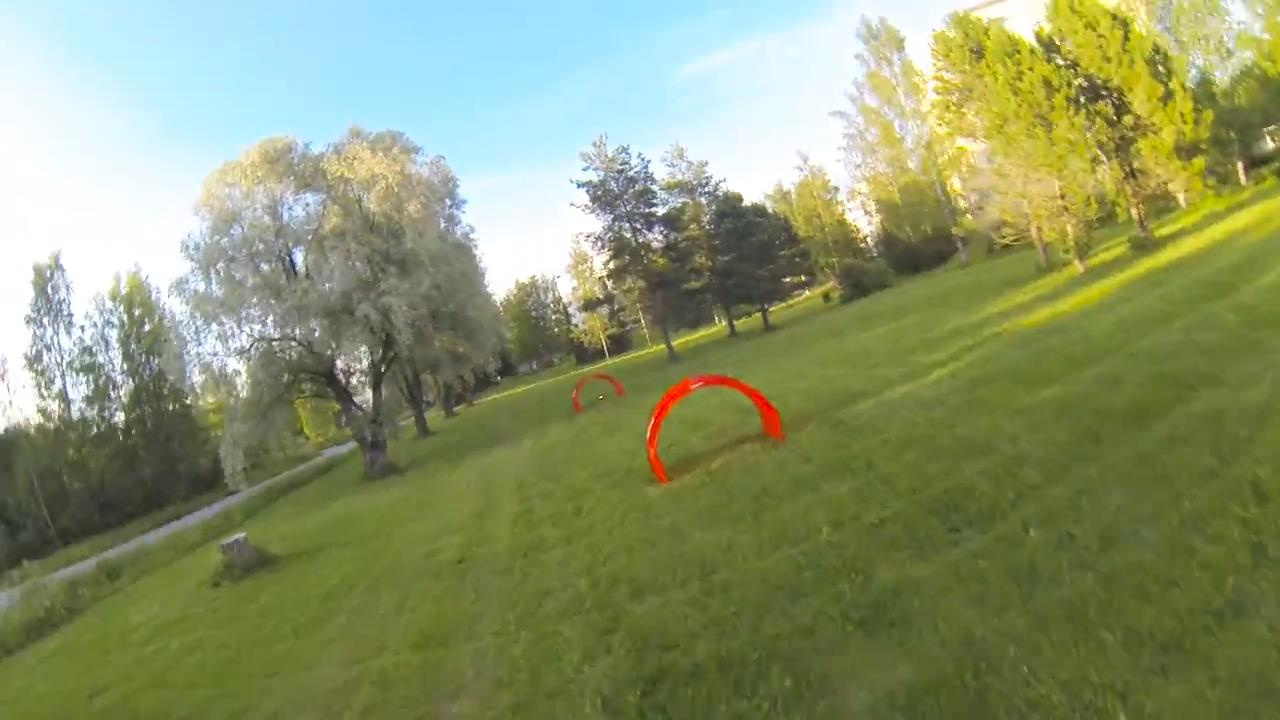gate: (641, 369, 785, 487)
